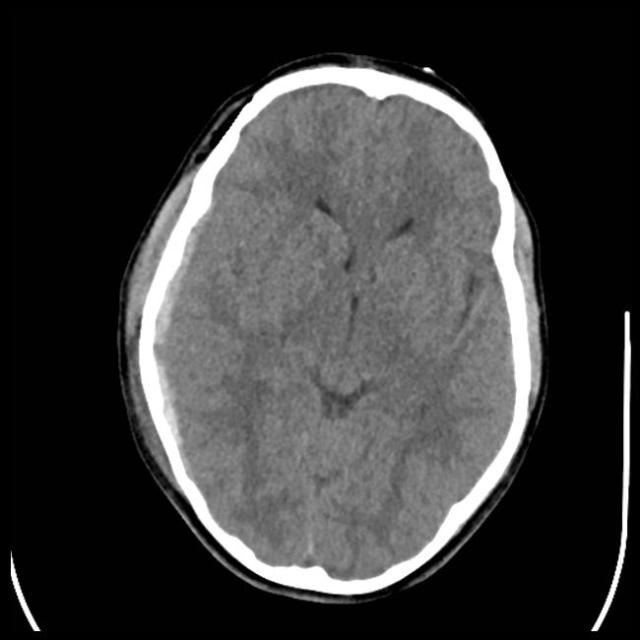lesion: (119, 57, 548, 598)
